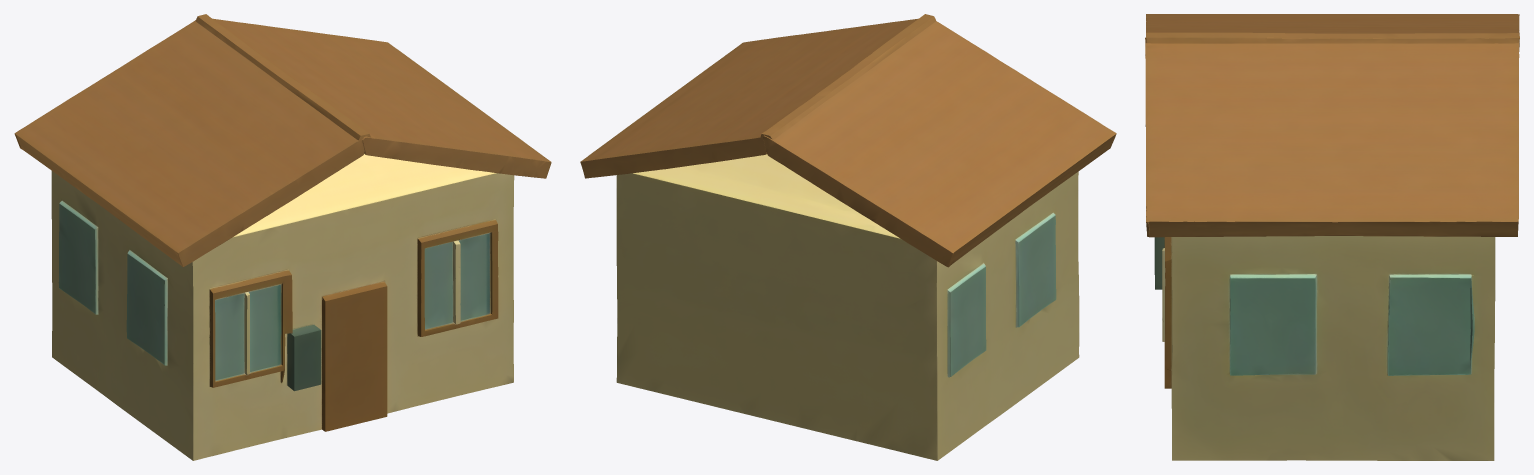
File: source.glb
3 views of the same model, side by side, from view 1: azimuth 30°, elevation 25°; view 2: azimuth 150°, elevation 25°; view 3: azimuth 270°, elevation 25° (orthographic). The views are drawn at different scales.
Visible parts, largest first — view 1: model; view 2: model; view 3: model.
Part boxes in pixels (x1=…): model: x1=14, y1=14, x2=551, y2=460; model: x1=580, y1=14, x2=1116, y2=460; model: x1=1145, y1=14, x2=1519, y2=460.
Bounding box in the file's own units: 1.9 × 1.43 × 1.45.
Materials: 1 (1 with a texture image).
